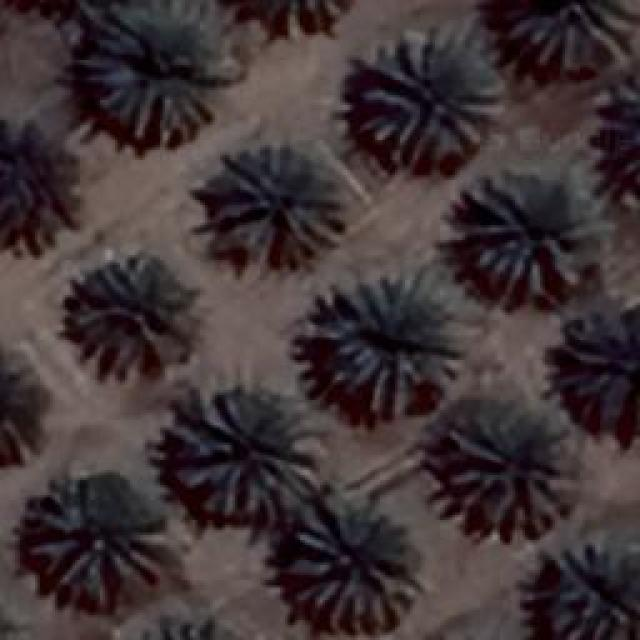PalmTree: (312, 270, 468, 415), (170, 384, 322, 518), (350, 28, 502, 162), (82, 2, 228, 140), (22, 472, 168, 606), (208, 144, 350, 268), (442, 407, 578, 535), (287, 500, 415, 628), (70, 252, 192, 378), (460, 178, 585, 300), (527, 535, 640, 640), (560, 305, 638, 430), (0, 118, 75, 246), (500, 0, 632, 65), (0, 335, 45, 463), (221, 0, 368, 38), (595, 72, 640, 186), (127, 607, 247, 640)
